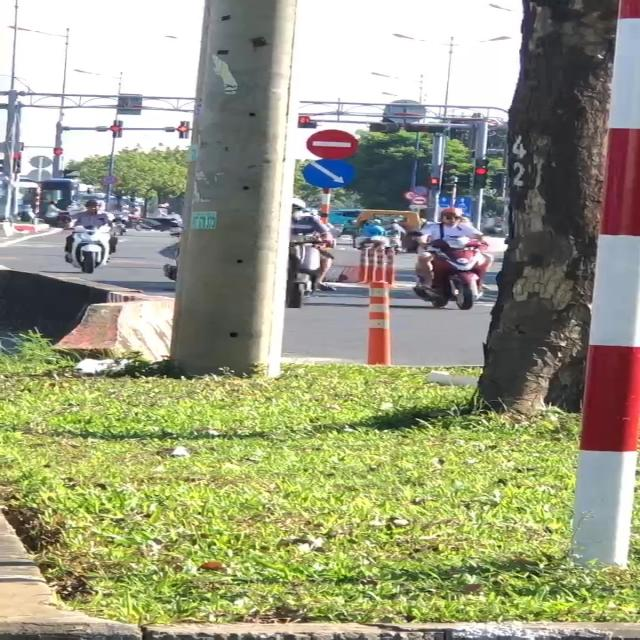Bien bao cam di nguoc chieu: (304, 127, 359, 160)
Bien bao huong phai di vong chuong ngai vat: (299, 157, 366, 190)
